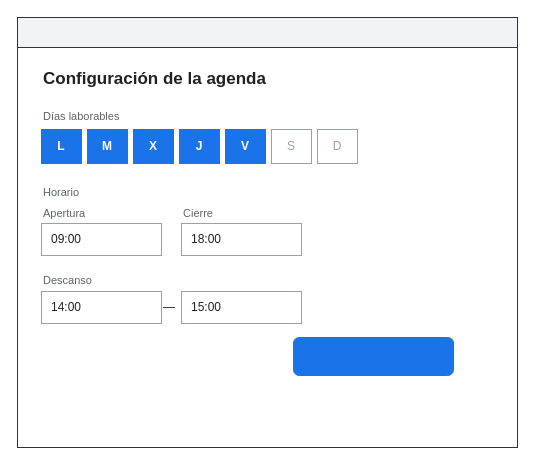
Some shapes in this 535 by 465 pixel diagram are drawn without their labels. Here are the shapes that lost their labels. From the top down, the centre of each, then its label:
At [267,32]: "Panel · Configuración de horarios".
At [373,356]: "Guardar cambios".
